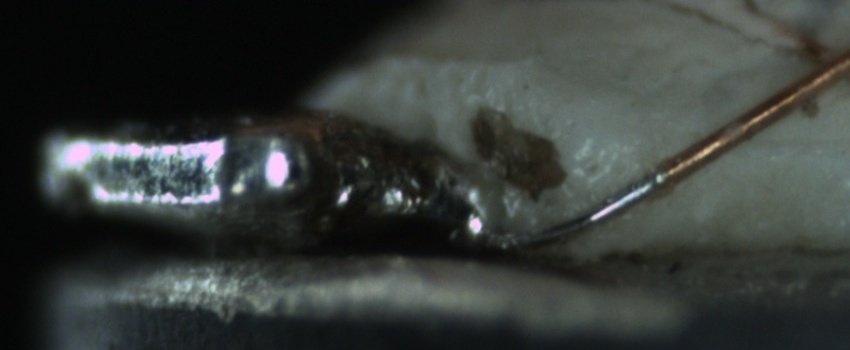CL: (771, 20, 849, 104)
DL: (723, 126, 849, 176)
TS: (503, 173, 667, 250)
TTCW: (512, 133, 720, 252)
